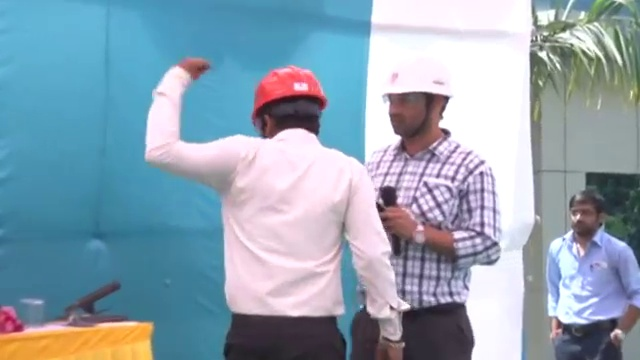helmet: (248, 63, 328, 119), (381, 52, 454, 101)
helmet_off: (567, 188, 601, 233)
helmet_on: (380, 53, 455, 153), (247, 64, 330, 140)
person: (142, 56, 404, 360), (351, 53, 504, 360), (544, 187, 640, 356)
